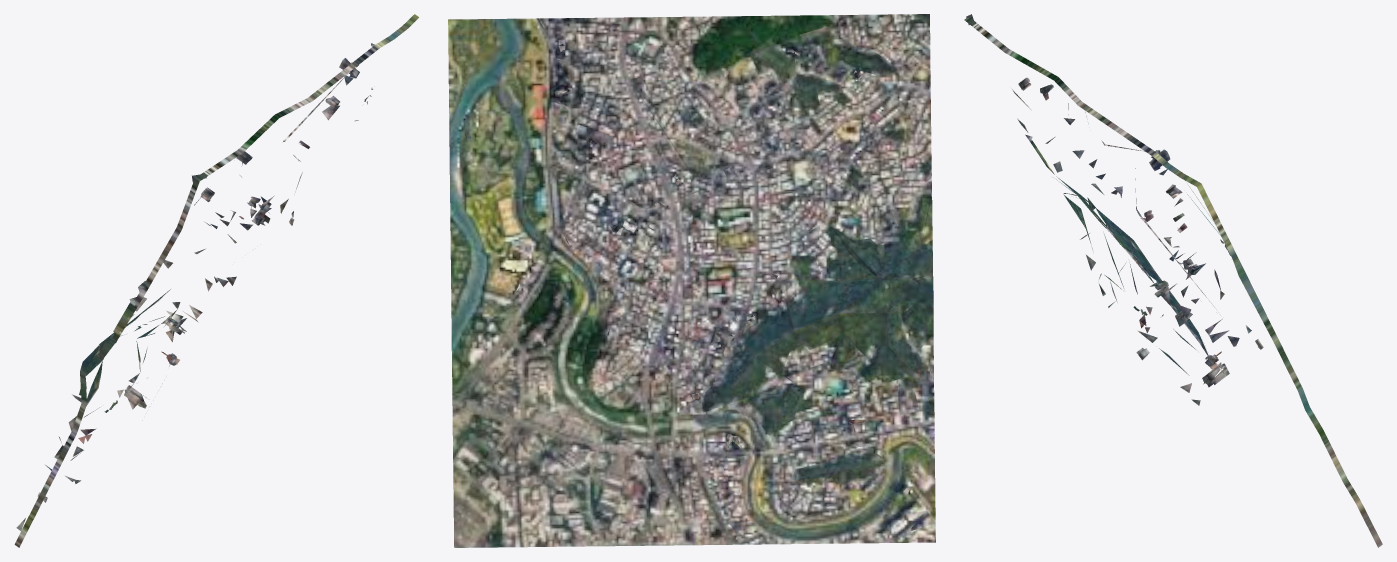
3 renders of one model, left to right at view 1: azimuth 30°, elevation 25°; view 2: azimuth 150°, elevation 25°; view 3: azimuth 270°, elevation 25°, orthographic. The views are drawn at different scales.
Size of the model in its own units: 2449 by 2237 by 2048.
Materials: 1 (1 with a texture image).
